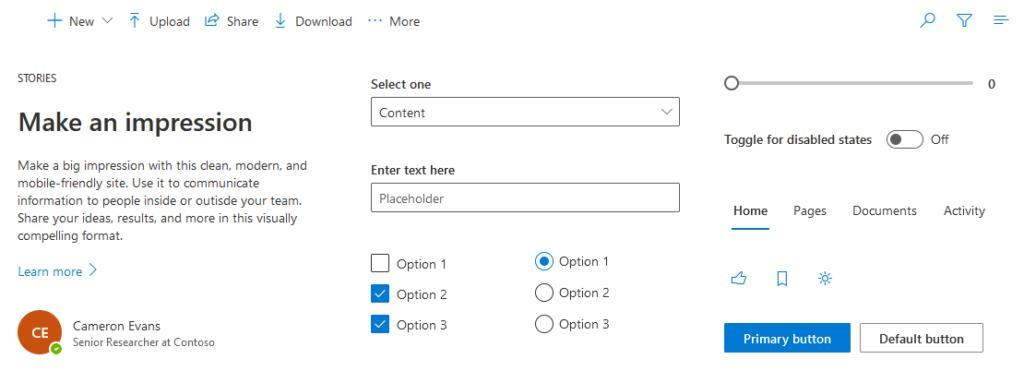button: (725, 323, 852, 354), (861, 324, 985, 354)
checkbox: (372, 284, 391, 304), (372, 254, 390, 273), (372, 316, 390, 334)
dropdown: (373, 99, 681, 127)
icon: (915, 10, 940, 35), (45, 9, 65, 35), (952, 10, 975, 32), (729, 269, 752, 289), (815, 268, 837, 287), (775, 267, 791, 292), (995, 10, 1011, 35), (202, 12, 222, 31), (274, 11, 290, 33), (366, 14, 385, 31), (128, 14, 145, 31), (282, 270, 285, 273)
input: (373, 184, 681, 212)
label: (723, 132, 877, 152), (371, 163, 459, 180), (852, 203, 921, 221), (558, 283, 614, 305), (368, 76, 435, 94), (297, 14, 356, 33), (396, 286, 448, 307), (559, 254, 612, 273), (558, 318, 617, 335), (148, 14, 192, 34), (397, 258, 451, 274), (945, 204, 989, 221), (734, 202, 771, 220), (397, 320, 448, 333), (225, 15, 261, 33), (390, 15, 424, 34), (792, 205, 830, 222), (68, 15, 98, 30), (931, 134, 952, 146)
radio: (535, 315, 556, 336), (535, 283, 556, 303), (535, 252, 555, 272)
slider: (722, 71, 986, 96)
switch: (887, 131, 925, 150)
